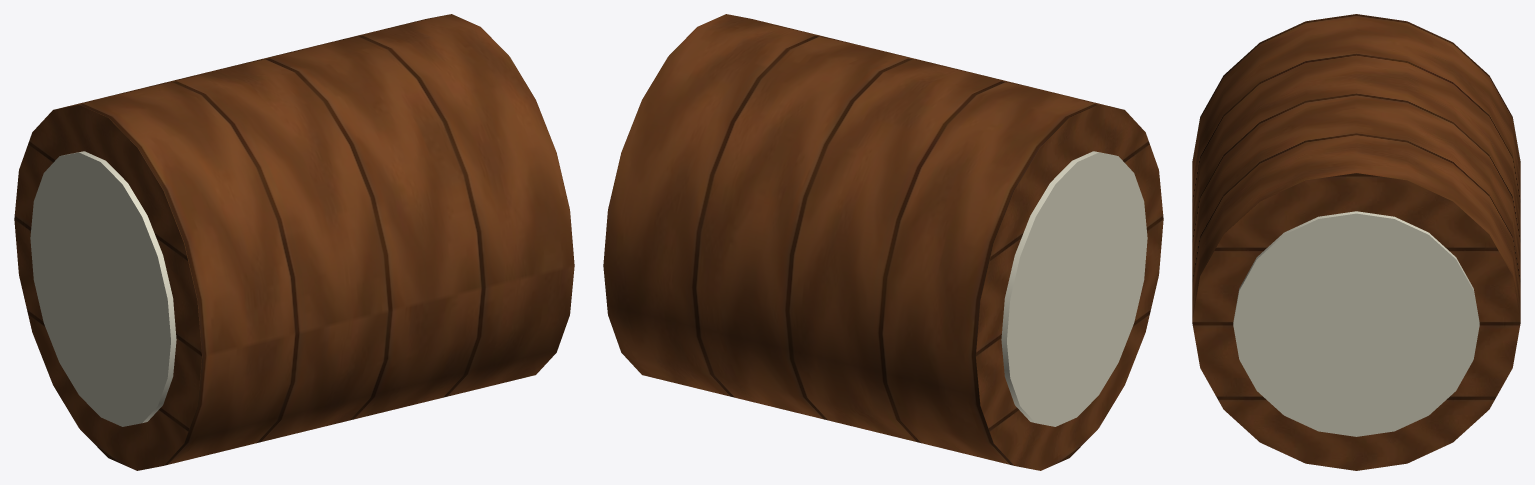
Rendered from wilderness-survival-camp-log-seat-ca6b07f6__21946.glb.
The picture shows the model from 3 angles, left to right: view 1: azimuth 30°, elevation 25°; view 2: azimuth 150°, elevation 25°; view 3: azimuth 270°, elevation 25°; orthographic projection. The views are drawn at different scales.
Visible parts, largest first — view 1: log-seat; view 2: log-seat; view 3: log-seat.
Part boxes in pixels (x1,y1,x2,y2): log-seat: [14, 14, 574, 470]; log-seat: [603, 14, 1163, 470]; log-seat: [1192, 14, 1520, 470].
Size of the model in its own units: 0.572 by 0.48 by 0.48.
Materials: 2 (1 with a texture image).
